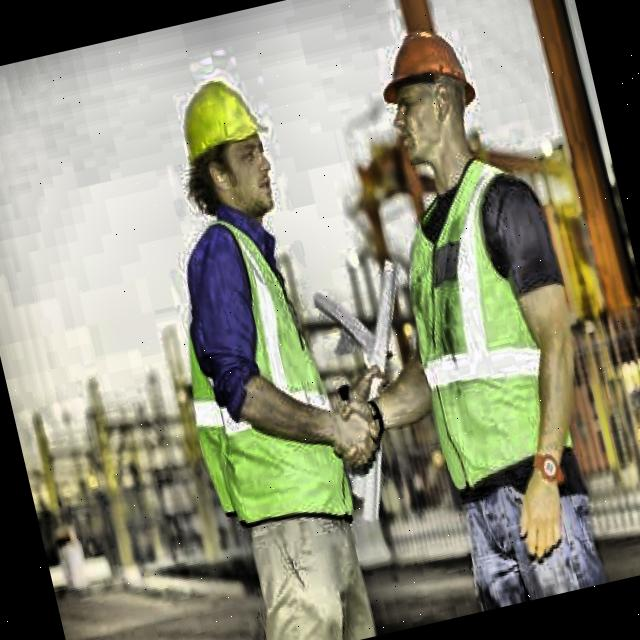helmet: (349, 1, 507, 197), (165, 58, 292, 232)
